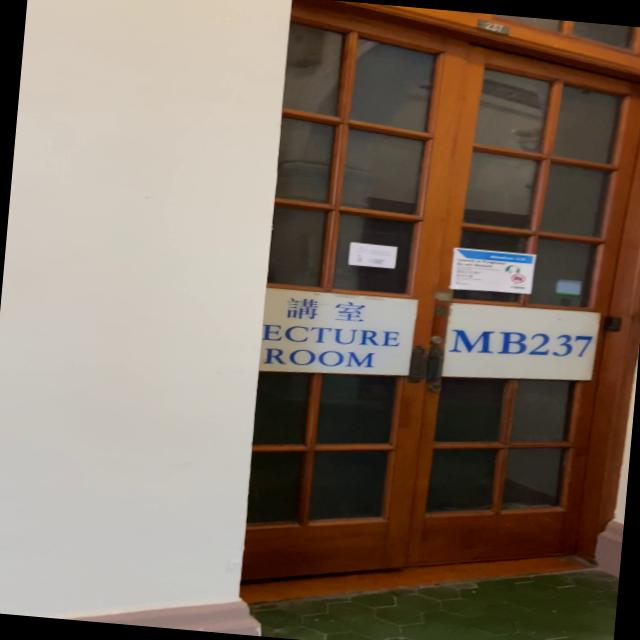room237: (474, 18, 511, 36)
room237Window: (448, 320, 596, 365)
